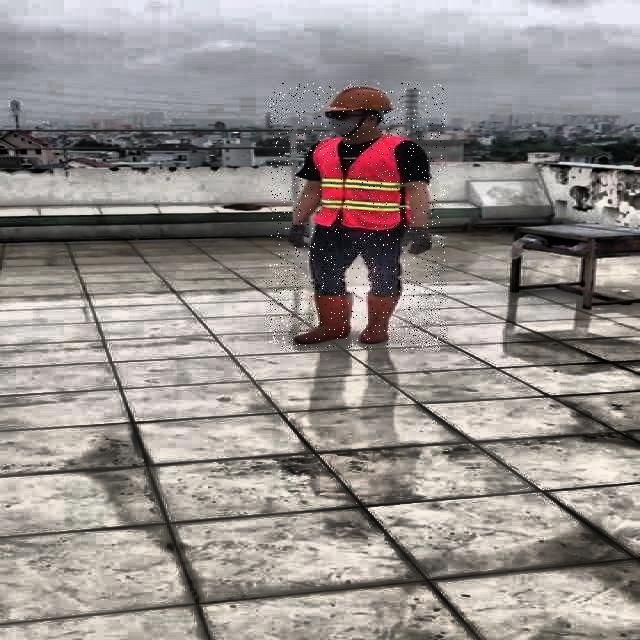safety_helmet: (328, 84, 393, 114)
safety_jacket: (311, 135, 407, 227)
